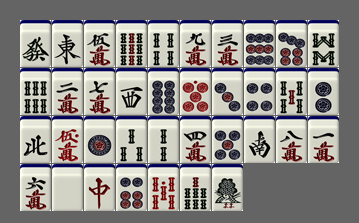0m: (52, 116, 83, 163)
0p: (180, 68, 211, 115)
0s: (148, 164, 179, 211)
1m: (308, 116, 339, 163)
1p: (84, 116, 115, 163)
1s: (212, 164, 243, 211)
1z: (52, 20, 83, 67)
2m: (52, 68, 83, 115)
2p: (308, 68, 339, 115)
2s: (148, 116, 179, 163)
2z: (244, 116, 275, 163)
3m: (212, 20, 243, 67)
3p: (212, 68, 243, 115)
3s: (116, 116, 147, 163)
3z: (116, 68, 147, 115)
4m: (180, 116, 211, 163)
4p: (244, 68, 275, 115)
4s: (148, 20, 179, 67)
4z: (20, 116, 51, 163)
5m: (84, 20, 115, 67)
5p: (212, 116, 243, 163)
5s: (276, 68, 307, 115)
5z: (52, 164, 83, 211)
6m: (20, 164, 51, 211)
6p: (116, 164, 147, 211)
6s: (20, 68, 51, 115)
6z: (20, 20, 51, 67)
7m: (84, 68, 115, 115)
7p: (276, 20, 307, 67)
7s: (180, 164, 211, 211)
7z: (84, 164, 115, 211)
8m: (276, 116, 307, 163)
8p: (148, 68, 179, 115)
8s: (308, 20, 339, 67)
9m: (180, 20, 211, 67)
9p: (244, 20, 275, 67)
9s: (116, 20, 147, 67)
